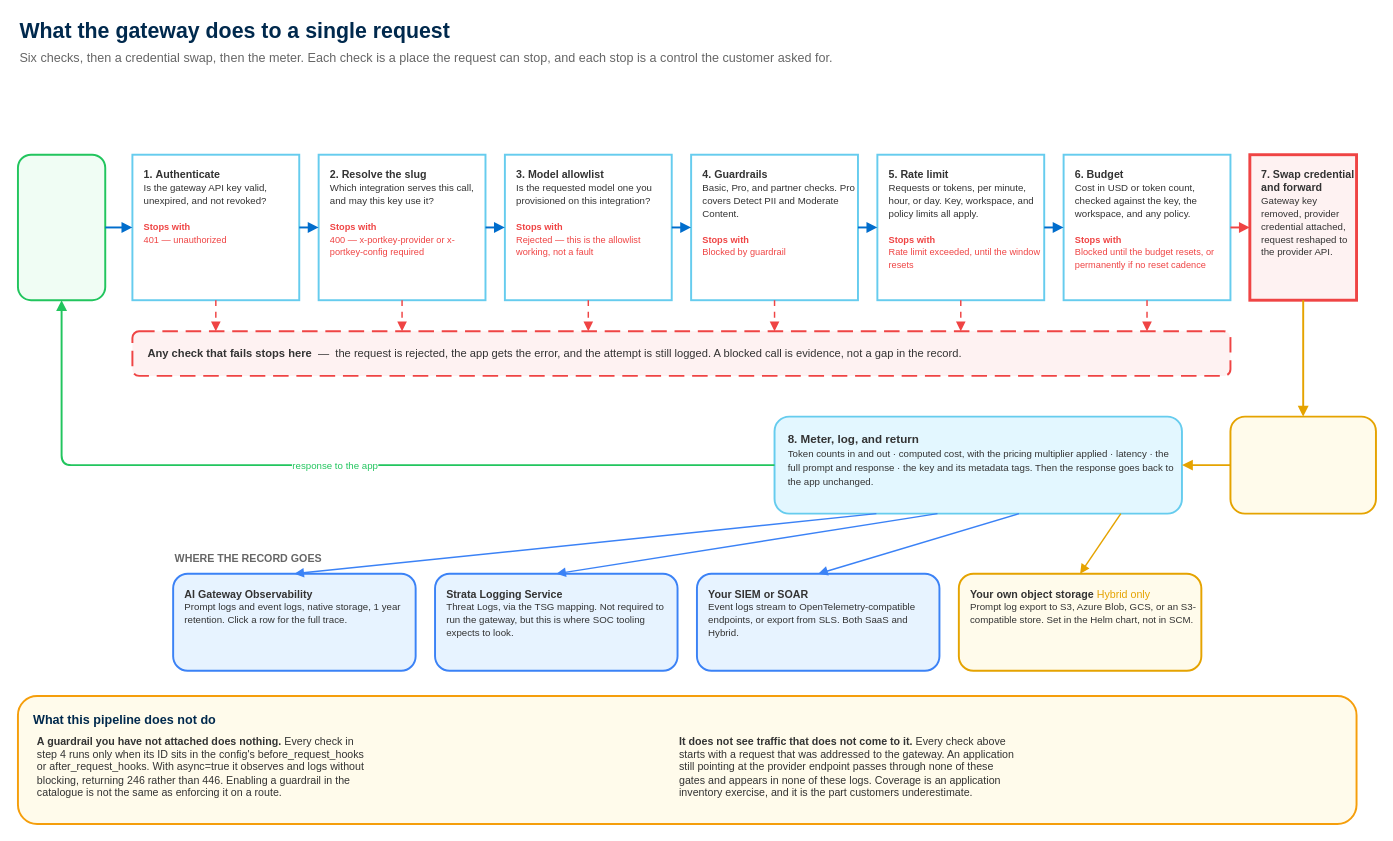
Some shapes in this 1393 by 841 pixel diagram are drawn without their labels. Each missing label, with the centre of its shape:
"LLM provider Anthropic, Bedrock, Azure OpenAI, Vertex AI, or a private model" goes at (1302,464).
"Request in" goes at (61,227).
